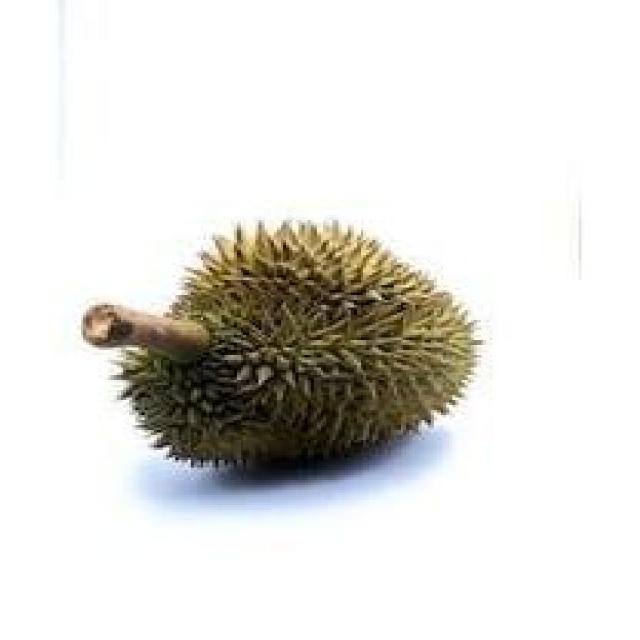fruit: (104, 178, 510, 518)
